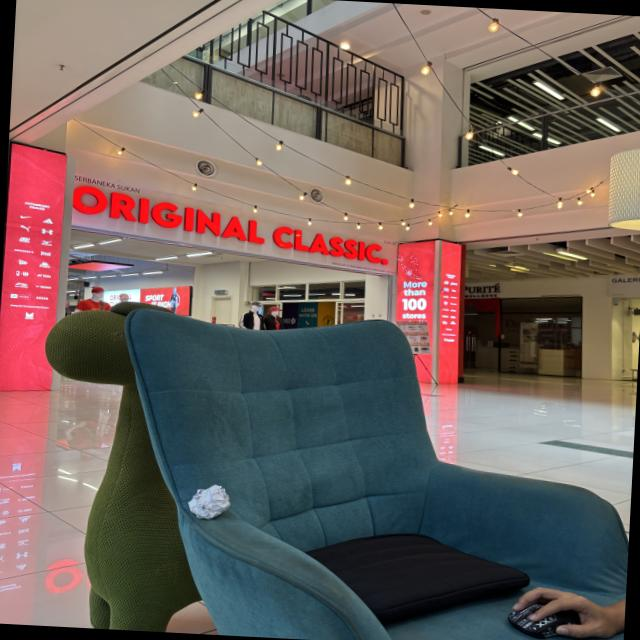crumpled_paper: (185, 480, 232, 522)
